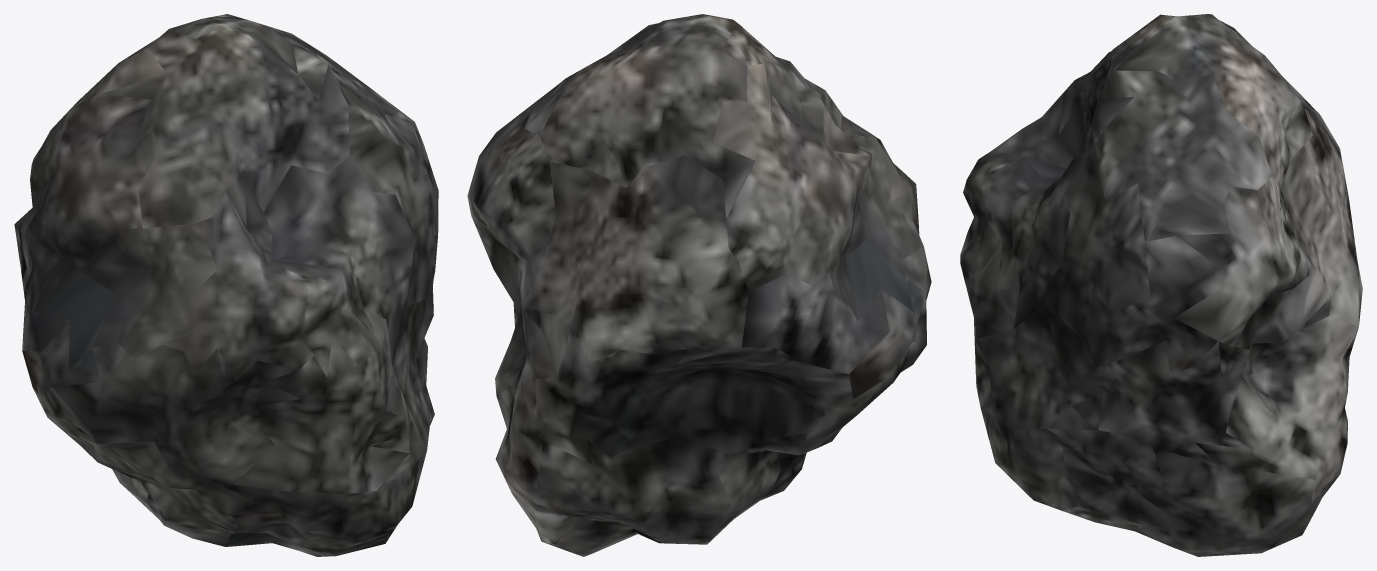
Rendered from asteroid_02.glb.
3 renders of one model, left to right at view 1: azimuth 30°, elevation 25°; view 2: azimuth 150°, elevation 25°; view 3: azimuth 270°, elevation 25°, orthographic. The views are drawn at different scales.
Visible parts, largest first — view 1: Mesh_0.002; view 2: Mesh_0.002; view 3: Mesh_0.002.
Part boxes in pixels (left/top/right/bottom): Mesh_0.002: left=14, top=14, right=438, bottom=556; Mesh_0.002: left=467, top=14, right=931, bottom=556; Mesh_0.002: left=960, top=14, right=1362, bottom=556.
Bounding box in the file's own units: 0.3327 × 0.4279 × 0.3176.
1 material, 1 textured.
